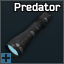Armytek Predator Pro v3 XHP35 HI flashlight: (0, 0, 64, 64)
